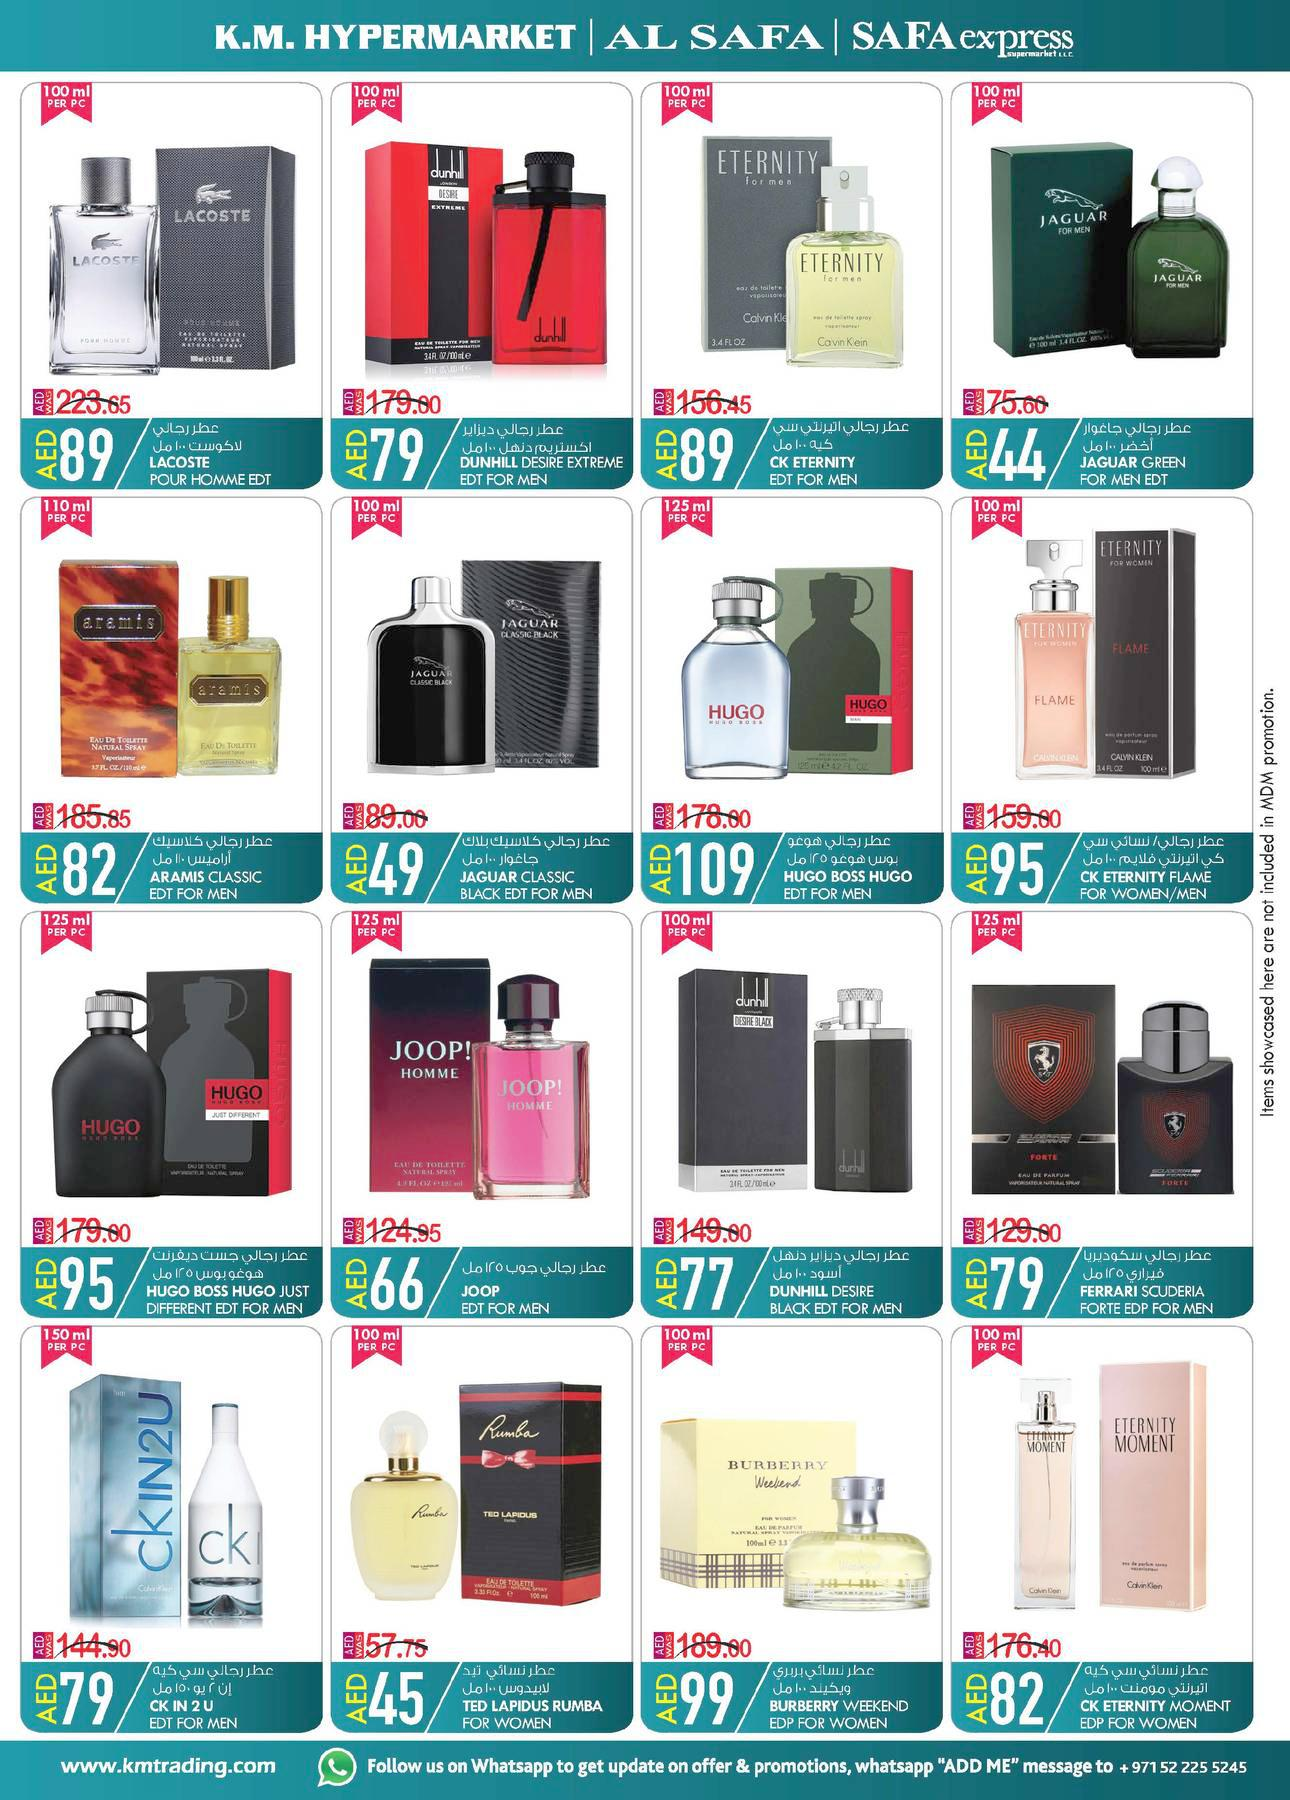text: (142, 1243, 316, 1319), (455, 827, 621, 906), (455, 416, 628, 488), (1074, 1659, 1238, 1733), (1074, 832, 1233, 906), (764, 1245, 919, 1319), (762, 1659, 916, 1733), (1074, 1246, 1230, 1319), (765, 414, 914, 488), (457, 1660, 611, 1732), (144, 1660, 289, 1733), (778, 832, 919, 904), (457, 1254, 614, 1319), (147, 419, 283, 488), (148, 830, 276, 904), (1076, 419, 1209, 490)
